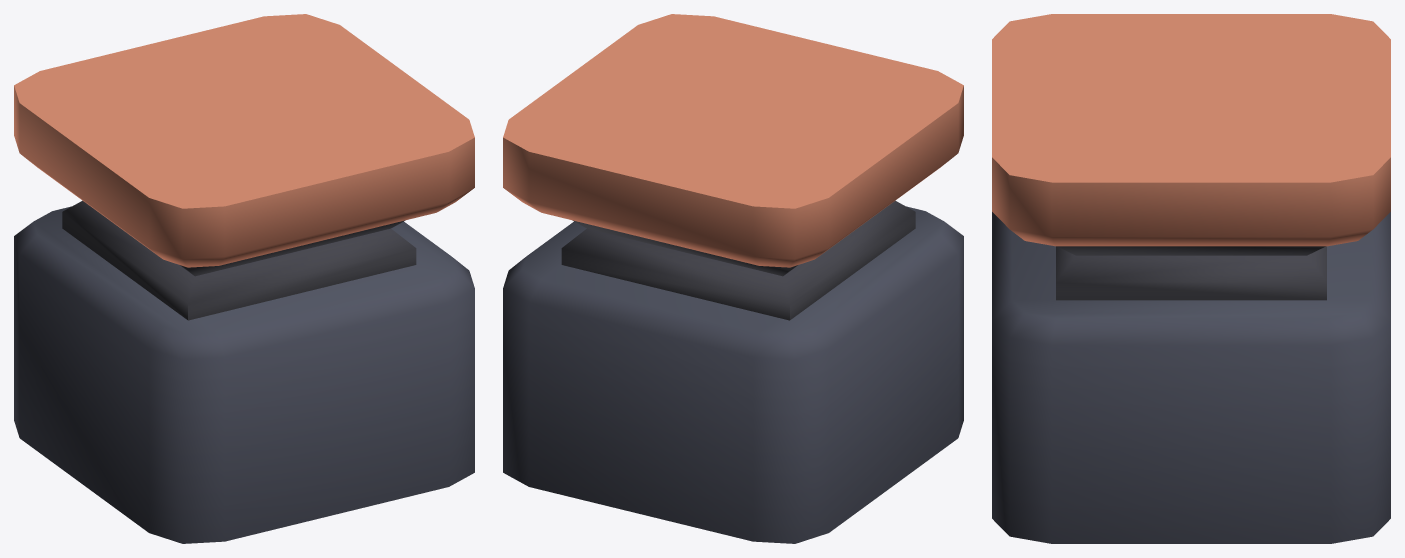
The model's file is piston-square.obj.
3 renders of one model, left to right at view 1: azimuth 30°, elevation 25°; view 2: azimuth 150°, elevation 25°; view 3: azimuth 270°, elevation 25°, orthographic. The views are drawn at different scales.
Visible parts, largest first — view 1: piston-square, top; view 2: piston-square, top; view 3: piston-square, top.
Boxes of the visible parts, x1,y1,x2,y2 form: piston-square: [14, 200, 474, 543]; top: [14, 14, 474, 276]; piston-square: [503, 200, 963, 543]; top: [503, 14, 963, 276]; piston-square: [992, 212, 1390, 543]; top: [992, 14, 1390, 255].
Bounding box in the file's own units: 1 × 1 × 1.
